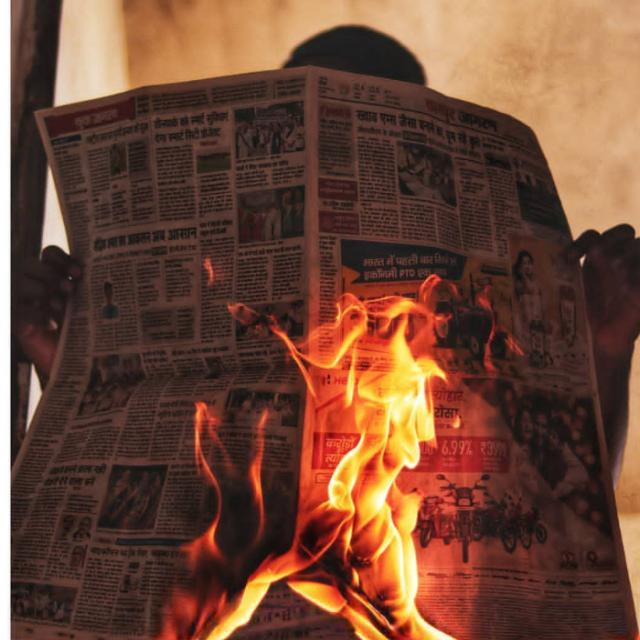fire: (227, 275, 524, 640), (158, 401, 294, 640)
